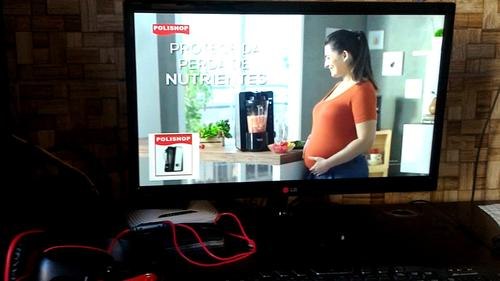Polishop #1: (148, 132, 200, 182)
